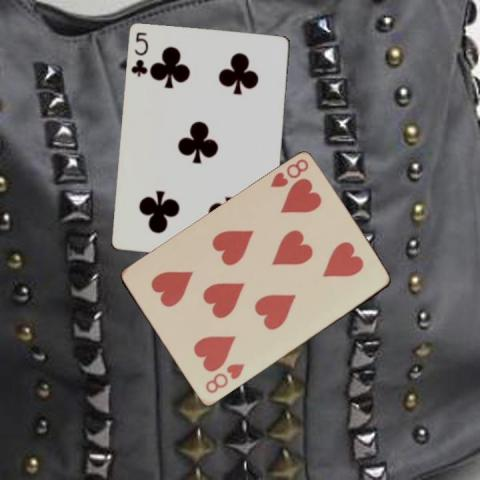5c: (128, 29, 150, 79)
8h: (202, 361, 246, 395), (267, 156, 310, 189)
